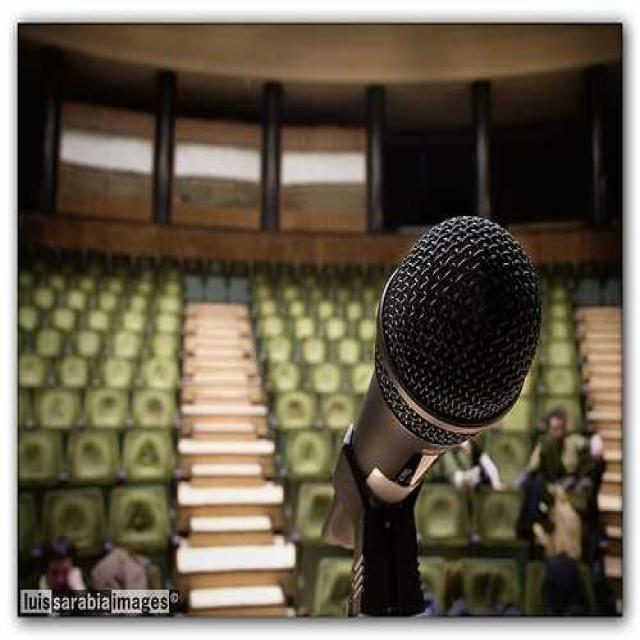microphone: (324, 216, 540, 606)
